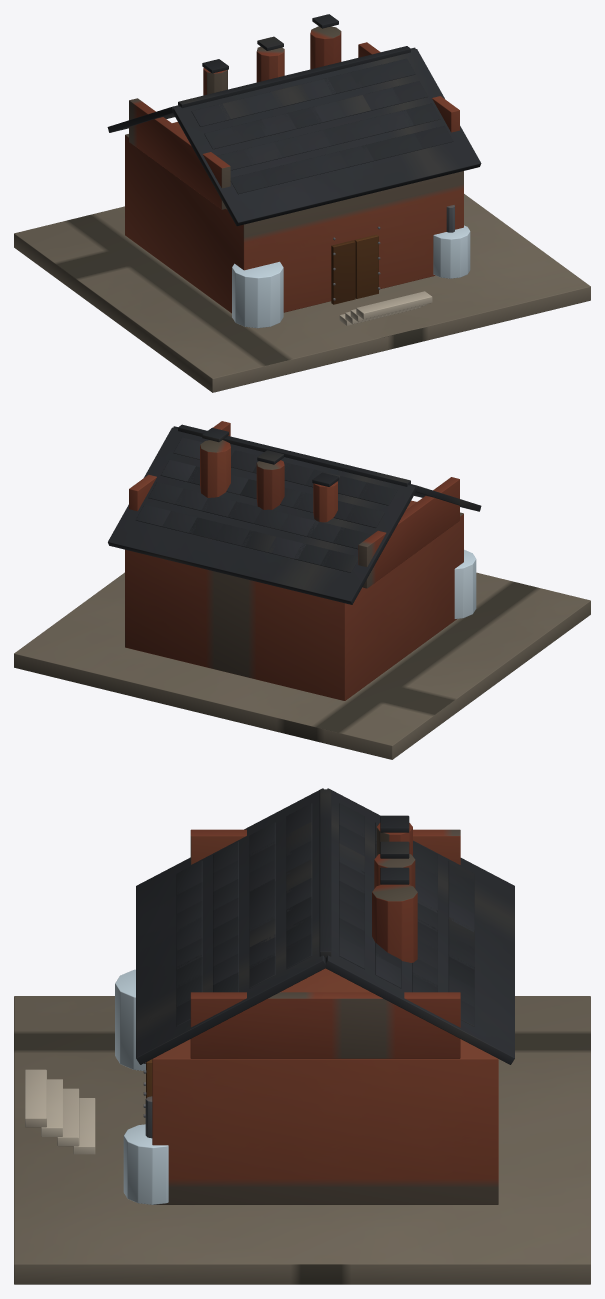
Rendered from building_university_alchemist.fbx.
The picture shows the model from 3 angles, top to bottom: view 1: azimuth 30°, elevation 25°; view 2: azimuth 150°, elevation 25°; view 3: azimuth 270°, elevation 25°; orthographic projection. The views are drawn at different scales.
Visible parts, largest first — view 1: building_university_alchemist; view 2: building_university_alchemist; view 3: building_university_alchemist.
Part boxes in pixels (bbox=[...]): building_university_alchemist: bbox=[14, 14, 590, 392]; building_university_alchemist: bbox=[14, 421, 590, 759]; building_university_alchemist: bbox=[14, 788, 590, 1284].
Size of the model in its own units: 11 by 6.05 by 10.
